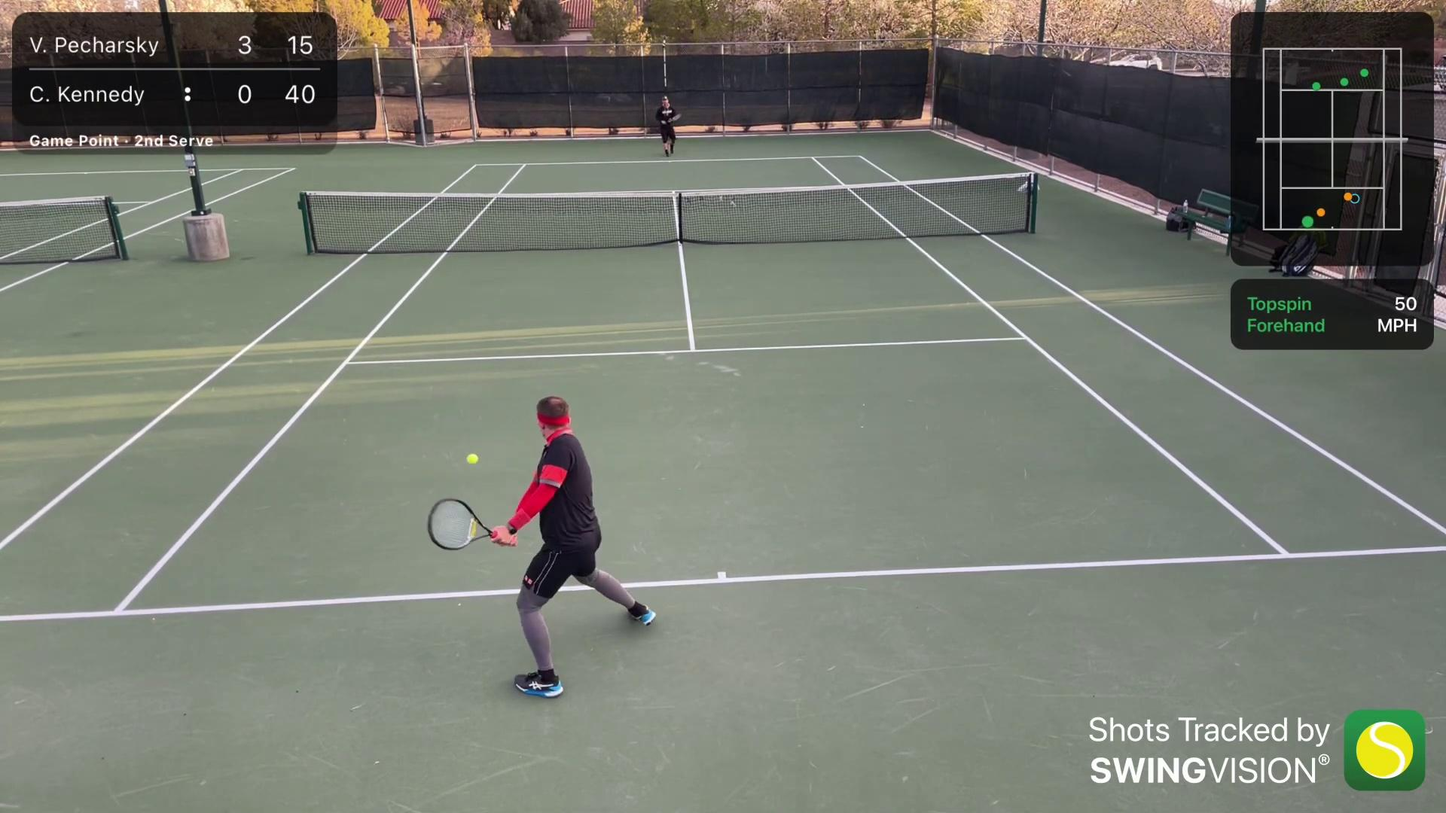ball: (462, 451, 482, 468), (498, 188, 503, 193)
